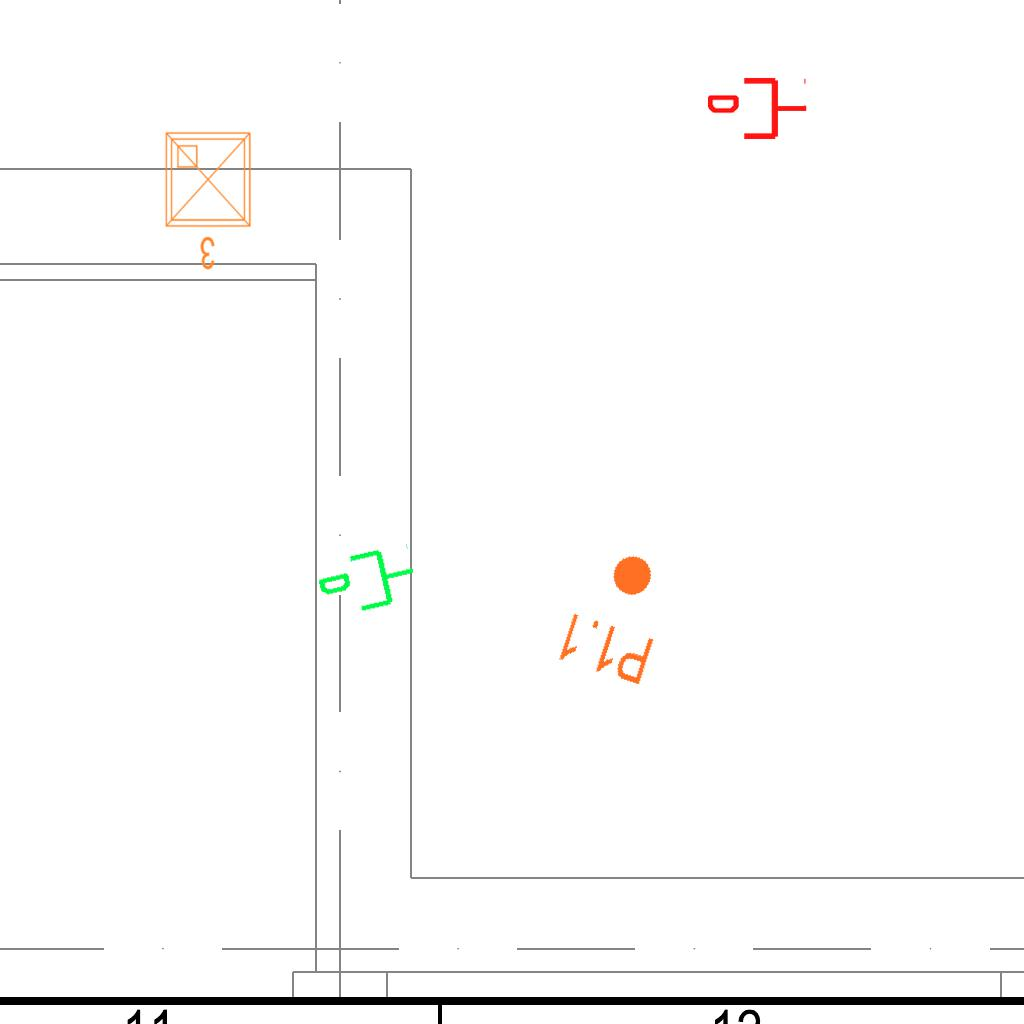Datenanschluss_einfach: (311, 538, 424, 628), (708, 74, 808, 143)
Downlight_LED_Einbauleuchten_Flur: (552, 538, 681, 690)
Einbaudownlights_LED_Konferenzraeume: (158, 125, 262, 275)
